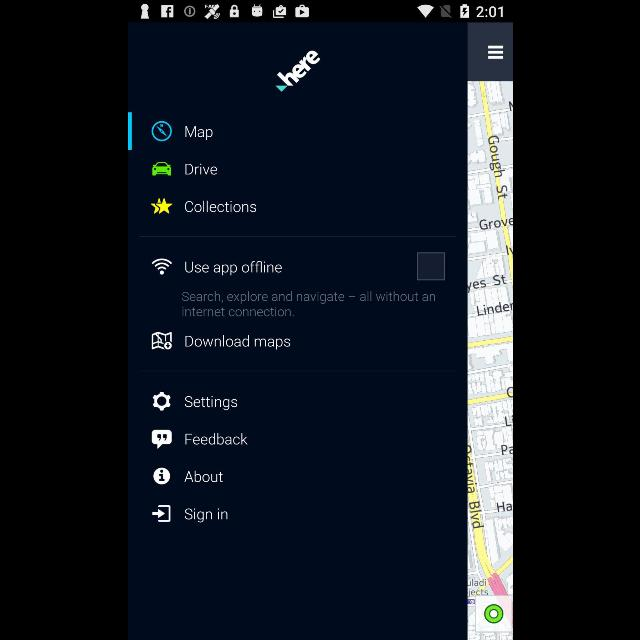icon: (150, 120, 172, 142), (150, 429, 172, 448), (150, 332, 172, 350), (150, 198, 172, 214), (152, 392, 170, 411), (152, 506, 170, 522), (153, 468, 170, 484), (487, 46, 503, 60)
image: (274, 51, 320, 93), (150, 258, 172, 276), (151, 162, 171, 176)
panel: (128, 23, 466, 639)
text: (181, 291, 435, 317), (184, 334, 290, 350), (185, 260, 282, 276), (184, 201, 256, 213), (185, 433, 248, 445), (184, 396, 236, 410), (184, 508, 226, 522), (184, 471, 222, 483), (184, 126, 212, 140), (184, 163, 216, 174)
